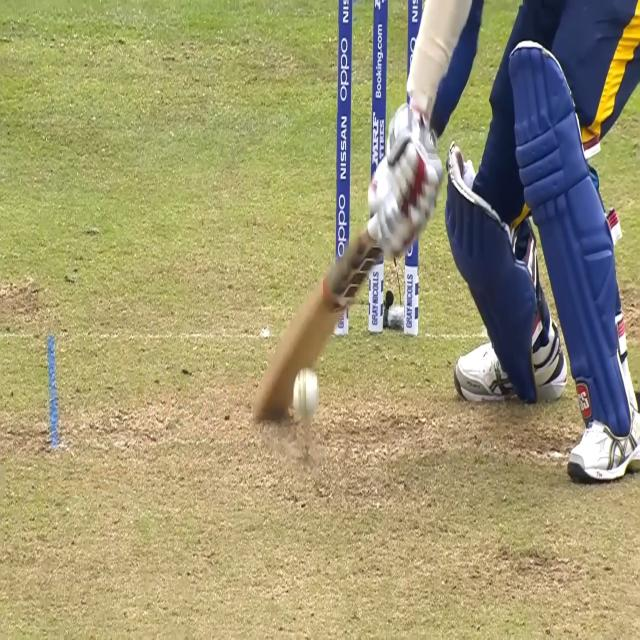ball: (291, 366, 325, 429)
